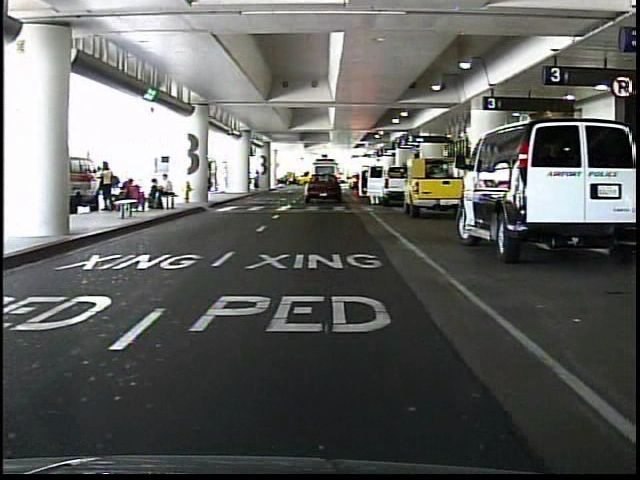person: (252, 168, 264, 193)
